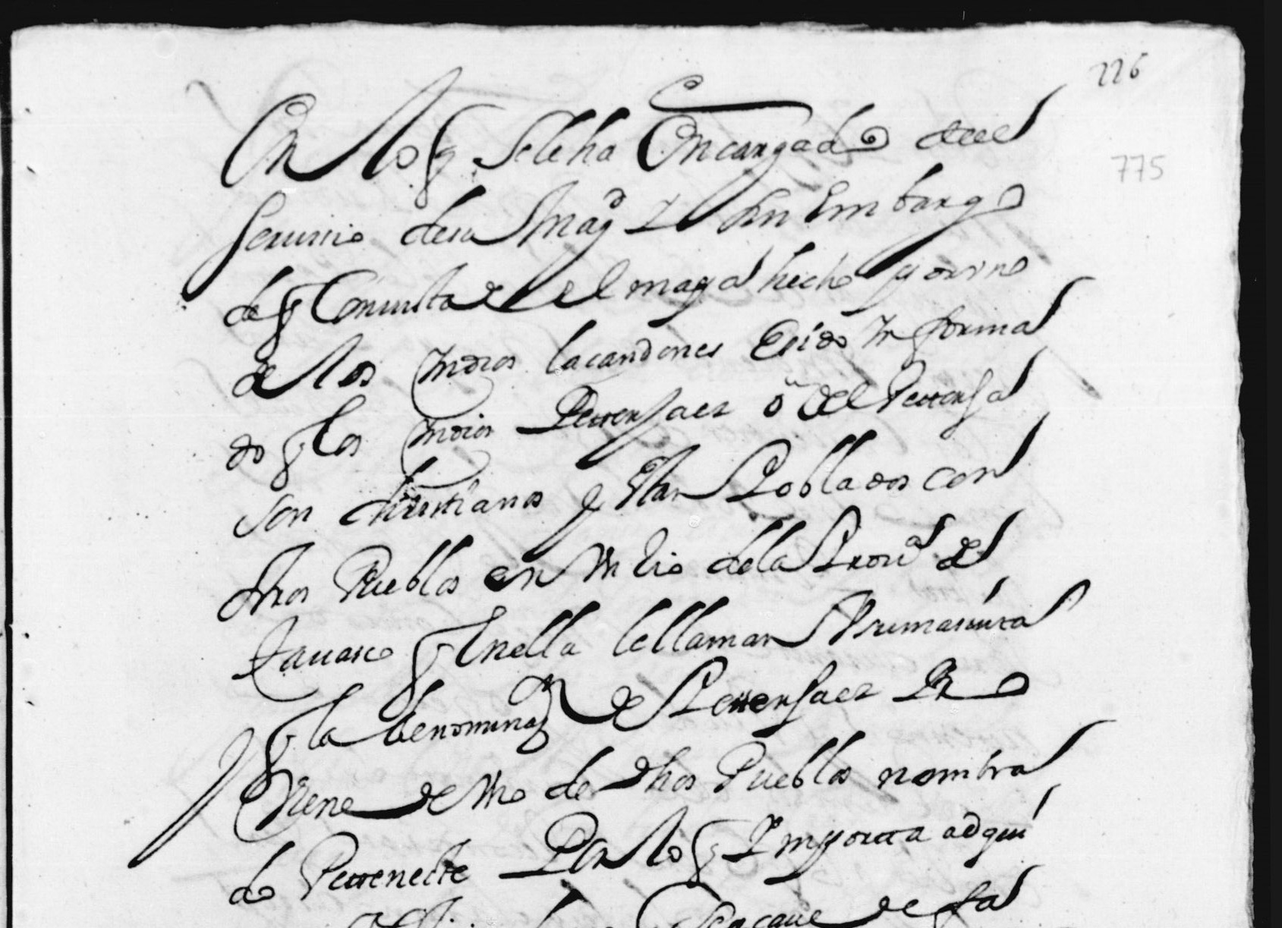lacandon: (546, 319, 723, 373)
